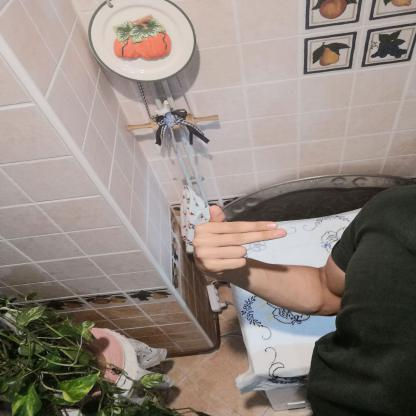GHAYN: (184, 200, 298, 286)
